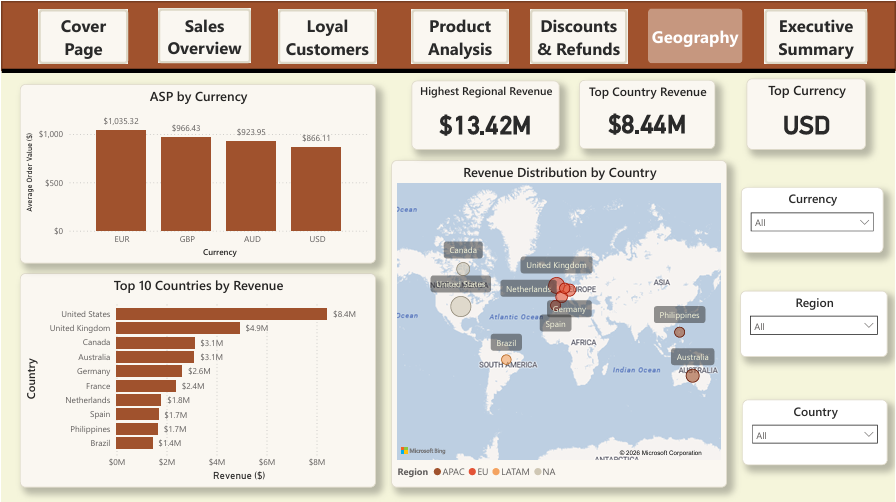

What the dashboard file says about the page in this screenshot:
{"tool":"powerbi","page":{"name":"Geography","canvas":[1280,720],"ordinal":5},"visuals":[{"type":"shape","box":[0,0,1280,98.6],"z":0},{"type":"actionButton","title":"Sales Overview","box":[52.9,11.4,128.6,77.1],"z":1000},{"type":"actionButton","title":"Sales Overview","box":[395.7,11.4,141.4,77.1],"z":2000},{"type":"actionButton","title":"Sales Overview","box":[587.1,11.4,138.6,77.1],"z":3000},{"type":"actionButton","title":"Sales Overview","box":[757.1,11.4,138.6,77.1],"z":4000},{"type":"actionButton","title":"Sales Overview","box":[223.7,9.6,133.1,78.2],"z":5000},{"type":"actionButton","title":"Sales Overview","box":[1092.9,11.4,147.1,77.1],"z":6000},{"type":"actionButton","title":"Sales Overview","box":[926.2,9.6,134.5,78.2],"z":7000},{"type":"shape","box":[0,81.4,1280,35.7],"z":8000},{"type":"slicer","title":"Currency","fields":{"Values":["Events.currency"]},"box":[1059.4,265.9,203.5,94.5],"z":9000},{"type":"slicer","title":"Region","fields":{"Values":["Customers.region"]},"box":[1058,414.2,210.7,94.5],"z":10000},{"type":"slicer","title":"Country","fields":{"Values":["Customers.country"]},"box":[1060.9,569.7,207.8,94.5],"z":11000},{"type":"card","title":"Top Country Revenue","fields":{"Values":["_Measures.Top Country Revenue"]},"box":[826.9,111.9,194.7,98.8],"z":12000},{"type":"card","title":"Top Currency","fields":{"Values":["_Measures.Top Currency"]},"box":[1066.7,110.4,171.5,101.7],"z":13000},{"type":"map","title":"Revenue Distribution by Country","fields":{"Category":["Customers.country"],"Size":["_Measures.Total Revenue"],"Series":["Customers.region"]},"box":[558,226.7,481,469.4],"z":14000},{"type":"clusteredBarChart","title":"Top 10 Countries by Revenue","fields":{"Category":["Customers.country"],"Y":["_Measures.Total Revenue"]},"box":[26.2,389.5,510.1,306.6],"z":15000},{"type":"clusteredColumnChart","title":"ASP by Currency","fields":{"Category":["Events.currency"],"Y":["_Measures.Avg Order Value"]},"box":[26.2,117.7,510.1,257.2],"z":16000},{"type":"card","title":"Highest Regional Revenue","fields":{"Values":["_Measures.Top Region Revenue"]},"box":[587.1,113.4,212.2,98.8],"z":17000}]}

Visuals, with their boxes in screenshot pixels (x1, y1, x2, y2), scaled from the page's 1280x720 canvas onto the 896x502 screenshot:
shape: locate(0, 0, 895, 69)
"Sales Overview" actionButton: locate(37, 8, 127, 62)
"Sales Overview" actionButton: locate(277, 8, 376, 62)
"Sales Overview" actionButton: locate(411, 8, 508, 62)
"Sales Overview" actionButton: locate(530, 8, 627, 62)
"Sales Overview" actionButton: locate(157, 7, 250, 61)
"Sales Overview" actionButton: locate(765, 8, 868, 62)
"Sales Overview" actionButton: locate(648, 7, 742, 61)
shape: locate(0, 57, 895, 82)
"Currency" slicer: locate(742, 185, 884, 251)
"Region" slicer: locate(741, 289, 888, 355)
"Country" slicer: locate(743, 397, 888, 463)
"Top Country Revenue" card: locate(579, 78, 715, 147)
"Top Currency" card: locate(747, 77, 867, 148)
"Revenue Distribution by Country" map: locate(391, 158, 727, 485)
"Top 10 Countries by Revenue" clusteredBarChart: locate(18, 272, 375, 485)
"ASP by Currency" clusteredColumnChart: locate(18, 82, 375, 261)
"Highest Regional Revenue" card: locate(411, 79, 560, 148)
